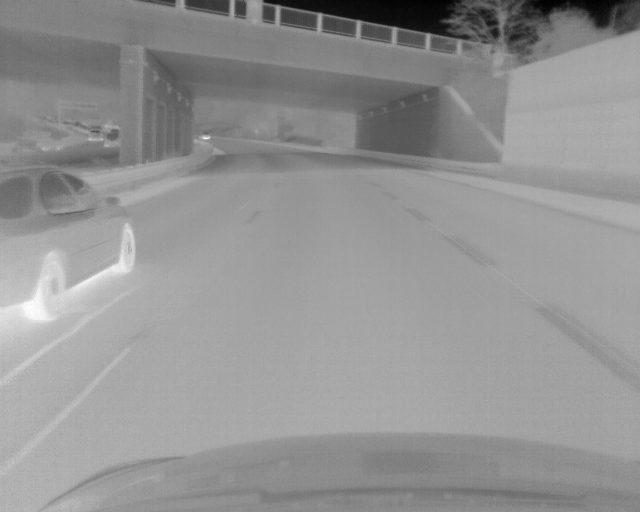car: (1, 166, 138, 327), (12, 130, 62, 153), (103, 130, 122, 147), (88, 128, 103, 141), (197, 132, 212, 140)
